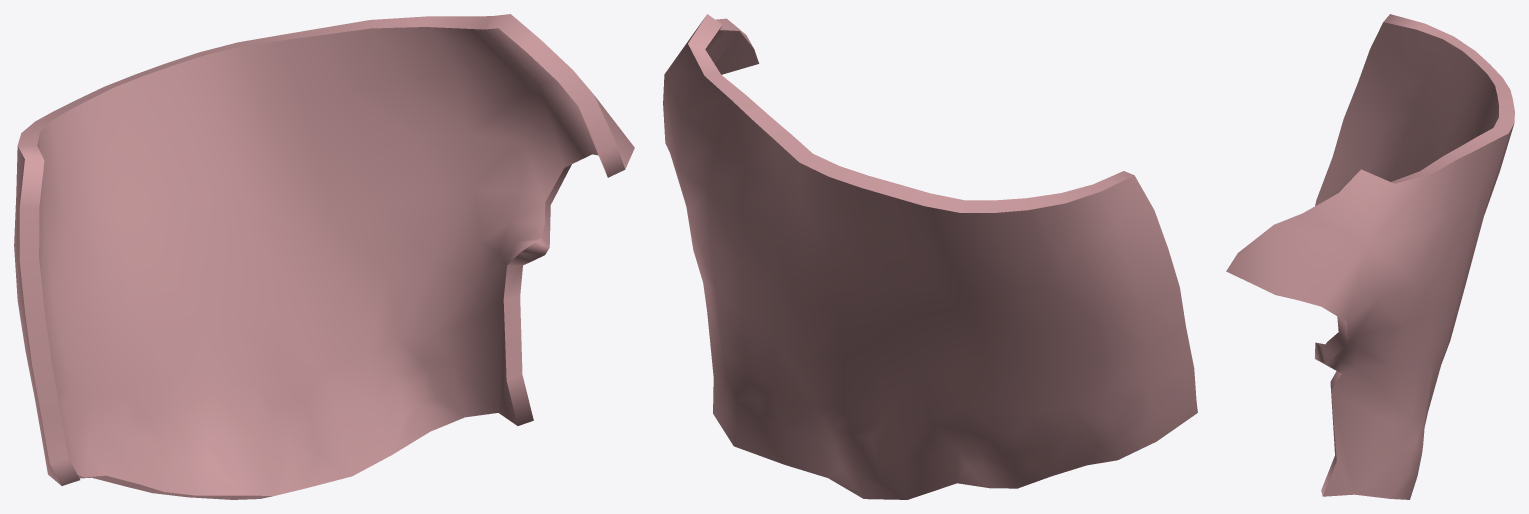
The picture shows the model from 3 angles, left to right: view 1: azimuth 30°, elevation 25°; view 2: azimuth 150°, elevation 25°; view 3: azimuth 270°, elevation 25°; orthographic projection. The views are drawn at different scales.
Parts seen in each view (by area): view 1: ZA_4074b9d3915bbe63; view 2: ZA_4074b9d3915bbe63; view 3: ZA_4074b9d3915bbe63.
Boxes of the visible parts, left/top/right/bottom form: ZA_4074b9d3915bbe63: left=14, top=14, right=634, bottom=499; ZA_4074b9d3915bbe63: left=663, top=14, right=1197, bottom=499; ZA_4074b9d3915bbe63: left=1226, top=14, right=1514, bottom=499.
Size of the model in its own units: 0.0989 by 0.075 by 0.0523.
